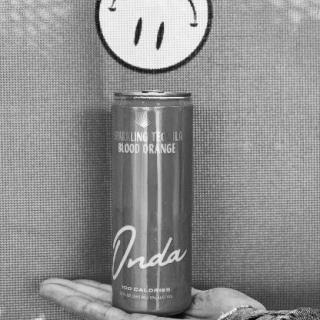alumunium_can: (109, 86, 197, 320)
